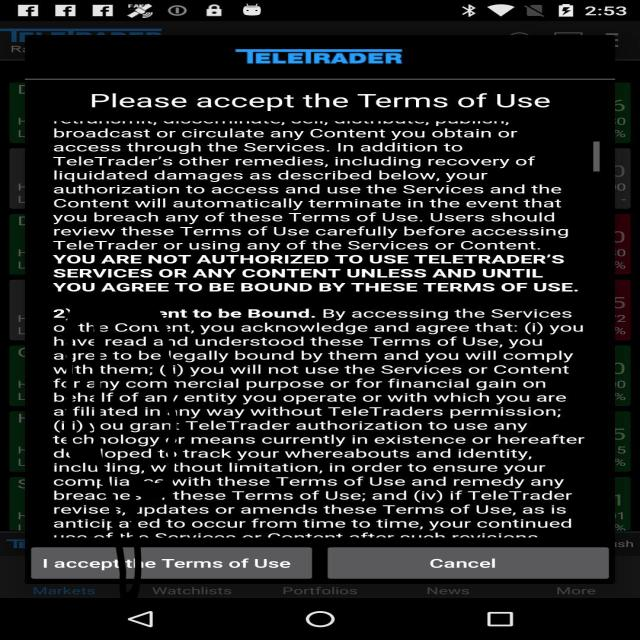obstruction: (64, 302, 178, 610)
